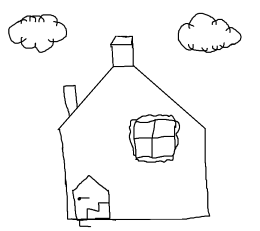chimney: (101, 28, 138, 71), (57, 78, 88, 120)
closed_window: (126, 111, 182, 164)
clouds: (172, 9, 247, 53), (6, 12, 71, 51)
door: (70, 166, 115, 225)
single_line_roof: (43, 64, 210, 136)
wall: (49, 120, 224, 223)
